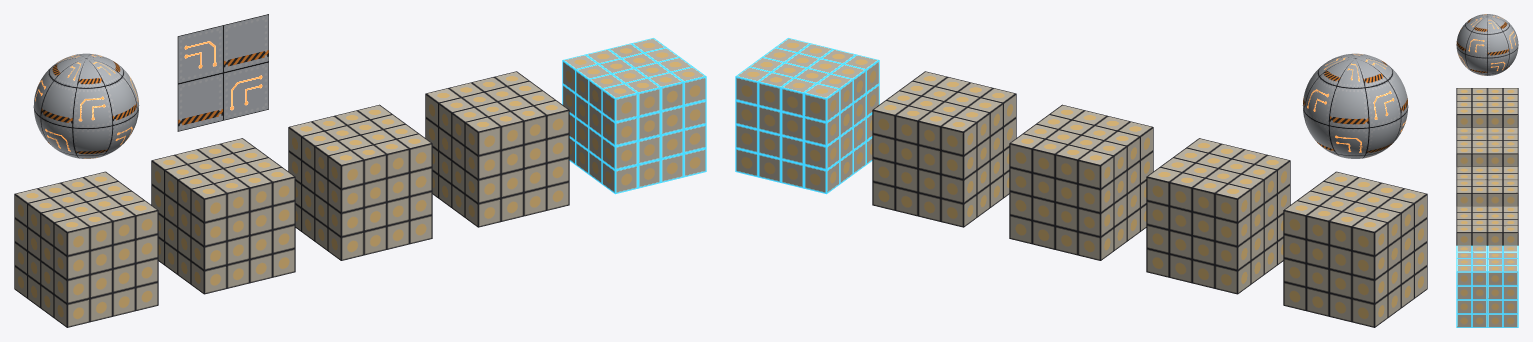
File: material-lab.glb
3 renders of one model, left to right at view 1: azimuth 30°, elevation 25°; view 2: azimuth 150°, elevation 25°; view 3: azimuth 270°, elevation 25°, orthographic. The views are drawn at different scales.
Parts seen in each view (by area): view 1: Stage 1 Base Color, Stage 2 Normal, Stage 4 Occlusion, Stage 5 Emissive, Stage 3 Metal Rough, Panel, Sphere; view 2: Stage 1 Base Color, Stage 2 Normal, Stage 4 Occlusion, Stage 5 Emissive, Stage 3 Metal Rough, Sphere; view 3: Stage 5 Emissive, Sphere, Stage 3 Metal Rough, Stage 1 Base Color, Stage 2 Normal, Stage 4 Occlusion.
Boxes of the visible parts, bbox=[...] form: Stage 1 Base Color: bbox=[14, 171, 158, 327]; Stage 2 Normal: bbox=[151, 138, 295, 294]; Stage 4 Occlusion: bbox=[425, 71, 569, 227]; Stage 5 Emissive: bbox=[562, 38, 706, 194]; Stage 3 Metal Rough: bbox=[288, 104, 432, 260]; Panel: bbox=[177, 14, 268, 131]; Sphere: bbox=[33, 53, 139, 158]; Stage 1 Base Color: bbox=[1283, 171, 1427, 327]; Stage 2 Normal: bbox=[1146, 138, 1290, 294]; Stage 4 Occlusion: bbox=[872, 71, 1016, 227]; Stage 5 Emissive: bbox=[735, 38, 879, 194]; Stage 3 Metal Rough: bbox=[1009, 104, 1153, 260]; Sphere: bbox=[1302, 53, 1408, 158]; Stage 5 Emissive: bbox=[1456, 245, 1518, 327]; Sphere: bbox=[1456, 14, 1518, 75]; Stage 3 Metal Rough: bbox=[1456, 166, 1518, 206]; Stage 1 Base Color: bbox=[1456, 88, 1518, 127]; Stage 2 Normal: bbox=[1456, 127, 1518, 166]; Stage 4 Occlusion: bbox=[1456, 206, 1518, 245].
Bounding box in the file's own units: 7 × 2.5 × 1.
Materials: 6 (6 with a texture image).
